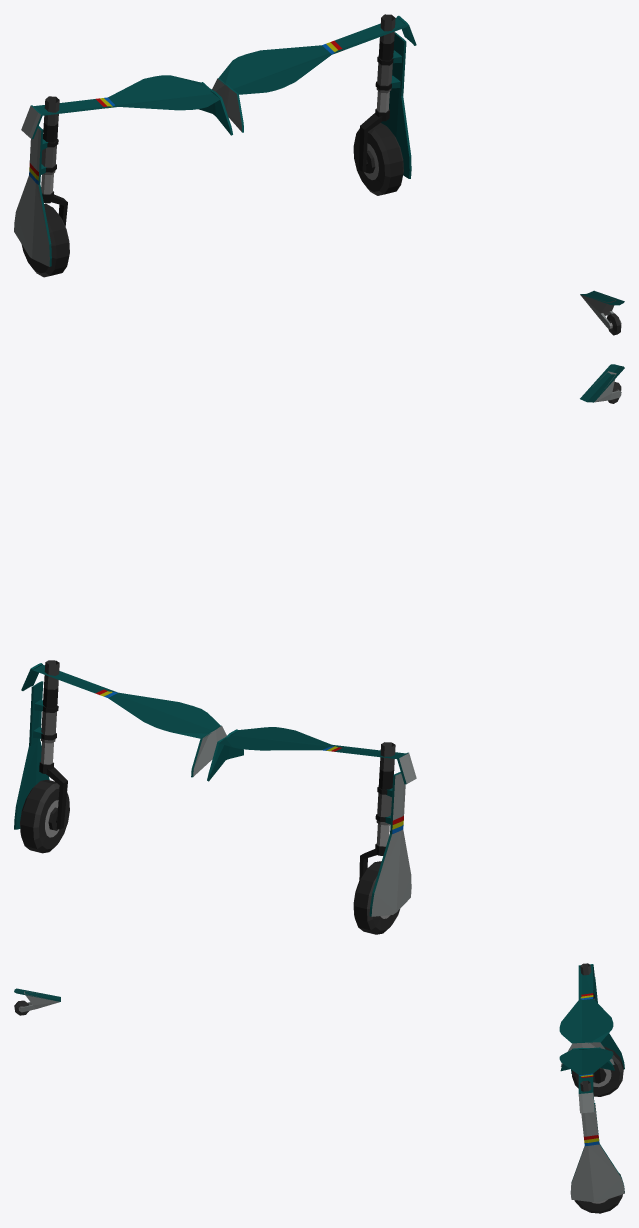
Rendered from Gear_Raiden.obj.
3 renders of one model, top to bottom at view 1: azimuth 30°, elevation 25°; view 2: azimuth 150°, elevation 25°; view 3: azimuth 270°, elevation 25°, orthographic. The views are drawn at different scales.
Parts seen in each view (by area): view 1: ShapeIndexedFaceSet.136_ShapeIndexedFaceSet.137, ShapeIndexedFaceSet.102_ShapeIndexedFaceSet.103, ShapeIndexedFaceSet.124_ShapeIndexedFaceSet.125, ShapeIndexedFaceSet.126_ShapeIndexedFaceSet.127, ShapeIndexedFaceSet.125_ShapeIndexedFaceSet.126, ShapeIndexedFaceSet.112_ShapeIndexedFaceSet.113, ShapeIndexedFaceSet.127_ShapeIndexedFaceSet.128, ShapeIndexedFaceSet.113_ShapeIndexedFaceSet.114, ShapeIndexedFaceSet.130_ShapeIndexedFaceSet.131, ShapeIndexedFaceSet.121_ShapeIndexedFaceSet.122, ShapeIndexedFaceSet.129_ShapeIndexedFaceSet.130, ShapeIndexedFaceSet.120_ShapeIndexedFaceSet.121 (+1 smaller); view 2: ShapeIndexedFaceSet.136_ShapeIndexedFaceSet.137, ShapeIndexedFaceSet.102_ShapeIndexedFaceSet.103, ShapeIndexedFaceSet.124_ShapeIndexedFaceSet.125, ShapeIndexedFaceSet.126_ShapeIndexedFaceSet.127, ShapeIndexedFaceSet.125_ShapeIndexedFaceSet.126, ShapeIndexedFaceSet.112_ShapeIndexedFaceSet.113, ShapeIndexedFaceSet.127_ShapeIndexedFaceSet.128; view 3: ShapeIndexedFaceSet.136_ShapeIndexedFaceSet.137, ShapeIndexedFaceSet.115_ShapeIndexedFaceSet.116, ShapeIndexedFaceSet.114_ShapeIndexedFaceSet.115, ShapeIndexedFaceSet.137_ShapeIndexedFaceSet.138.
Boxes of the visible parts, left/top/right/bottom form: ShapeIndexedFaceSet.136_ShapeIndexedFaceSet.137: left=33, top=17, right=406, bottom=115; ShapeIndexedFaceSet.102_ShapeIndexedFaceSet.103: left=14, top=128, right=49, bottom=266; ShapeIndexedFaceSet.124_ShapeIndexedFaceSet.125: left=381, top=32, right=411, bottom=178; ShapeIndexedFaceSet.126_ShapeIndexedFaceSet.127: left=359, top=41, right=394, bottom=172; ShapeIndexedFaceSet.125_ShapeIndexedFaceSet.126: left=374, top=126, right=402, bottom=194; ShapeIndexedFaceSet.112_ShapeIndexedFaceSet.113: left=45, top=208, right=69, bottom=275; ShapeIndexedFaceSet.127_ShapeIndexedFaceSet.128: left=353, top=132, right=384, bottom=191; ShapeIndexedFaceSet.113_ShapeIndexedFaceSet.114: left=42, top=123, right=67, bottom=226; ShapeIndexedFaceSet.130_ShapeIndexedFaceSet.131: left=212, top=78, right=241, bottom=131; ShapeIndexedFaceSet.121_ShapeIndexedFaceSet.122: left=355, top=128, right=403, bottom=195; ShapeIndexedFaceSet.129_ShapeIndexedFaceSet.130: left=198, top=82, right=232, bottom=135; ShapeIndexedFaceSet.120_ShapeIndexedFaceSet.121: left=364, top=91, right=389, bottom=180; ShapeIndexedFaceSet.136_ShapeIndexedFaceSet.137: left=32, top=665, right=405, bottom=758; ShapeIndexedFaceSet.102_ShapeIndexedFaceSet.103: left=371, top=773, right=411, bottom=916; ShapeIndexedFaceSet.124_ShapeIndexedFaceSet.125: left=14, top=681, right=49, bottom=829; ShapeIndexedFaceSet.126_ShapeIndexedFaceSet.127: left=39, top=687, right=67, bottom=829; ShapeIndexedFaceSet.125_ShapeIndexedFaceSet.126: left=20, top=779, right=56, bottom=852; ShapeIndexedFaceSet.112_ShapeIndexedFaceSet.113: left=354, top=861, right=381, bottom=934; ShapeIndexedFaceSet.127_ShapeIndexedFaceSet.128: left=39, top=788, right=69, bottom=849; ShapeIndexedFaceSet.136_ShapeIndexedFaceSet.137: left=559, top=965, right=613, bottom=1093; ShapeIndexedFaceSet.115_ShapeIndexedFaceSet.116: left=570, top=1104, right=624, bottom=1202; ShapeIndexedFaceSet.114_ShapeIndexedFaceSet.115: left=575, top=1061, right=619, bottom=1094; ShapeIndexedFaceSet.137_ShapeIndexedFaceSet.138: left=19, top=991, right=59, bottom=1012.
Bounding box in the file's own units: 36.78 × 20.63 × 70.45.
